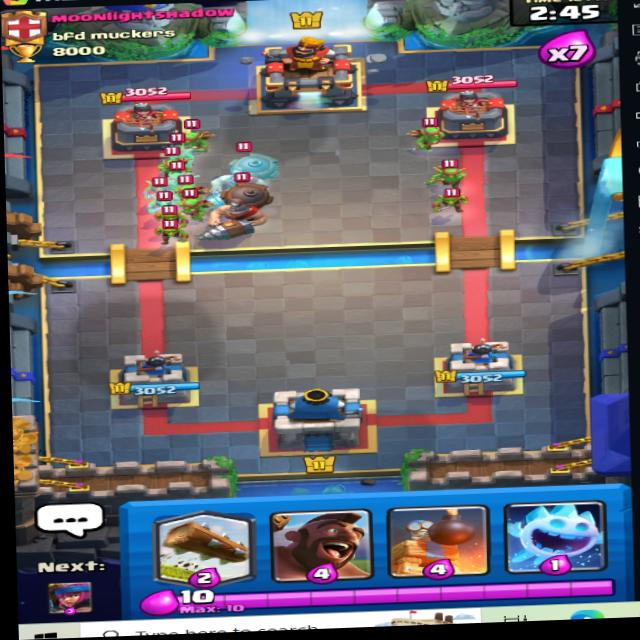goblin: (426, 186, 471, 212), (154, 203, 190, 229), (158, 219, 196, 242)
mighty-miner: (198, 174, 283, 247)
spear-goblin: (427, 156, 468, 185), (411, 118, 452, 147), (177, 122, 216, 149), (175, 192, 214, 215)
